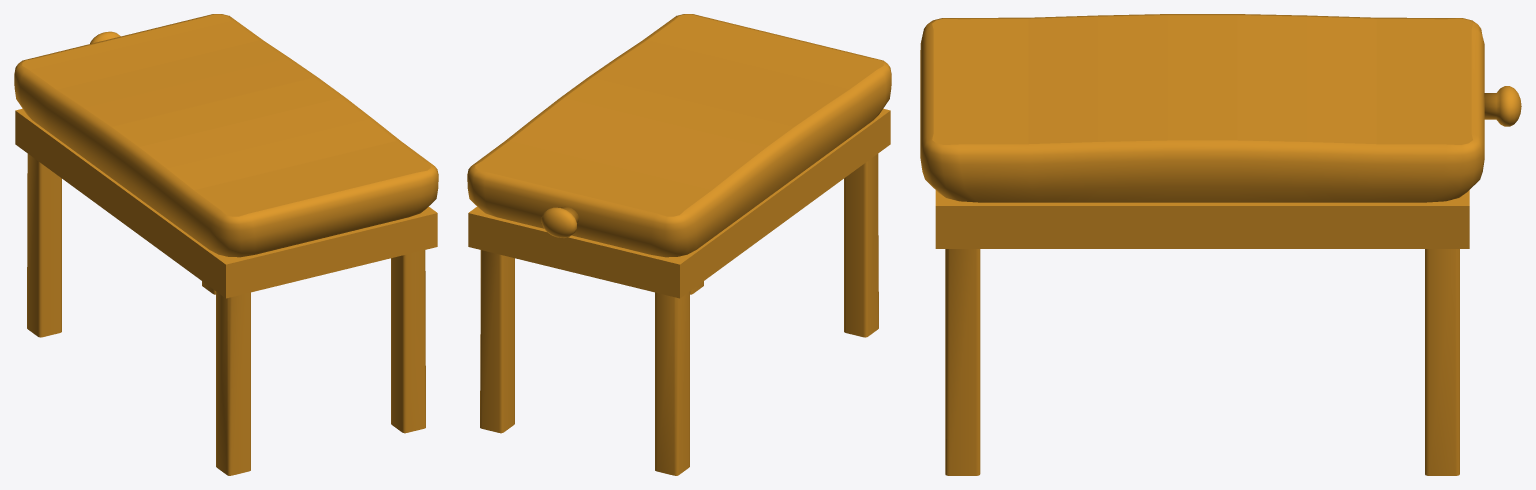
Rendered from PianoBench.FBX.
3 renders of one model, left to right at view 1: azimuth 30°, elevation 25°; view 2: azimuth 150°, elevation 25°; view 3: azimuth 270°, elevation 25°, orthographic. The views are drawn at different scales.
Visible parts, largest first — view 1: Sgabello2, Sgabello1; view 2: Sgabello2, Sgabello1, Sgabello3; view 3: Sgabello2, Sgabello1, Sgabello3.
Part boxes in pixels (x1,y1,x2,y2): Sgabello2: (14,14,438,257); Sgabello1: (15,108,437,475); Sgabello2: (467,14,891,257); Sgabello1: (468,108,890,475); Sgabello3: (541,206,578,237); Sgabello2: (920,14,1484,202); Sgabello1: (935,190,1469,475); Sgabello3: (1484,86,1521,126).
Size of the model in its own units: 13.55 by 15.41 by 24.92.
